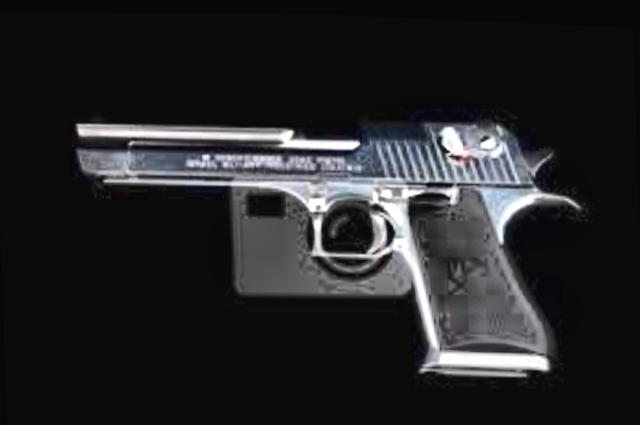pistol: (68, 96, 589, 392)
